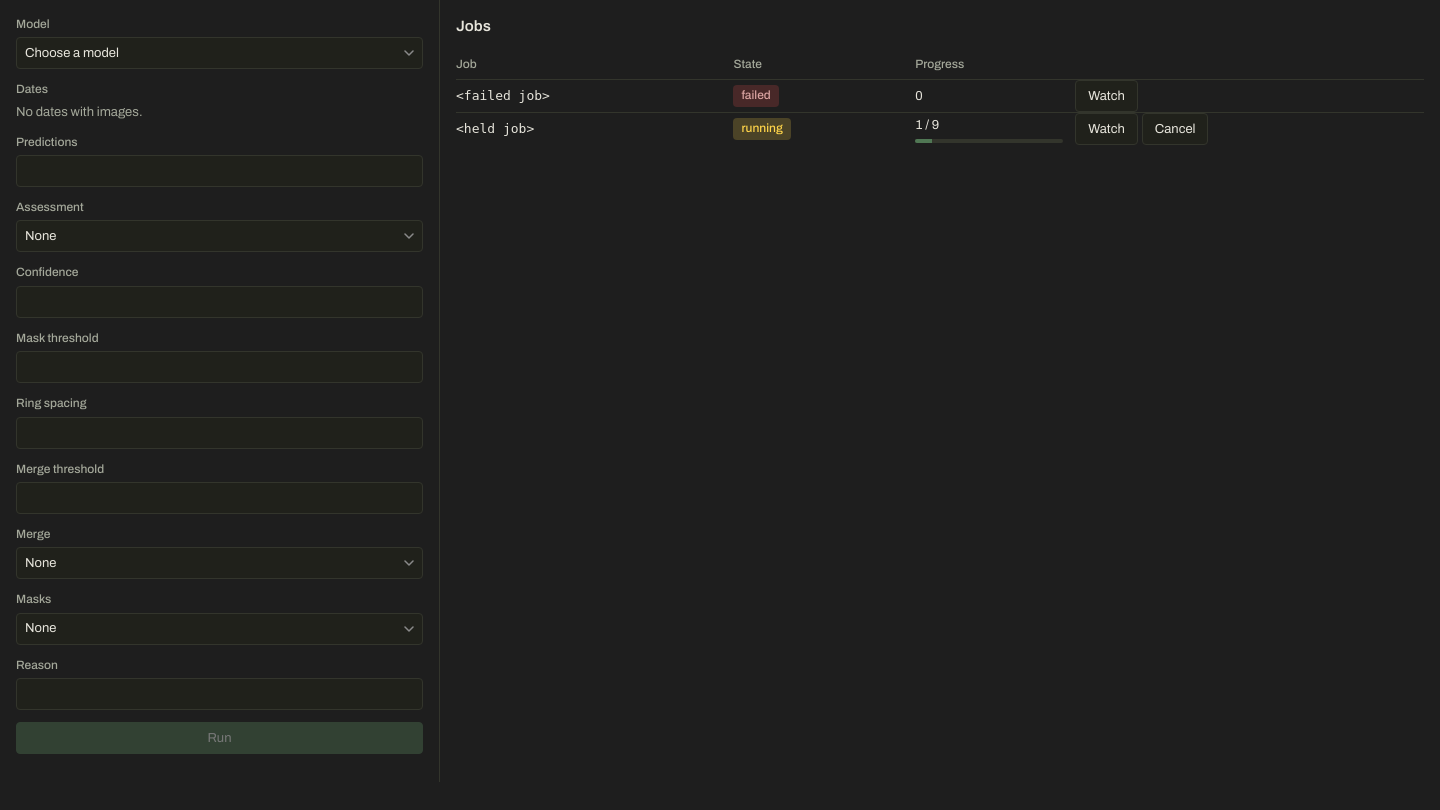
Test: InferenceTab job table › shows canceling until the poll reports the job ended
The width and height of the screenshot is (1440, 810).
Check: the text "<held job>" is shown, box top-left (456, 113), bottom-right (733, 145)
Click the button "Cancel" at {"x": 1175, "y": 129}, box top-left (1142, 113), bottom-right (1208, 145)
Wait 6000 ms
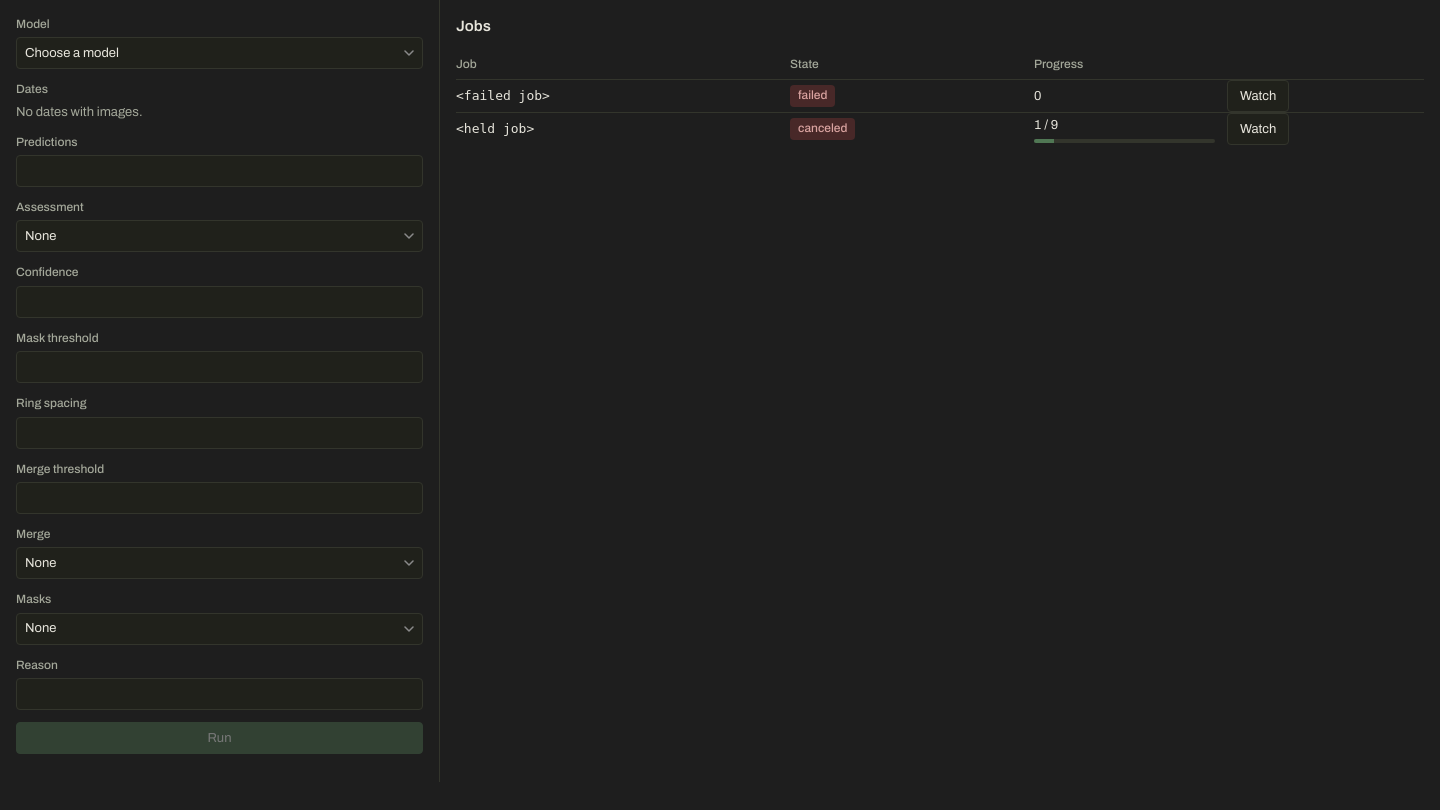
Check: the text "canceled" is shown, box top-left (790, 118), bottom-right (856, 140)
